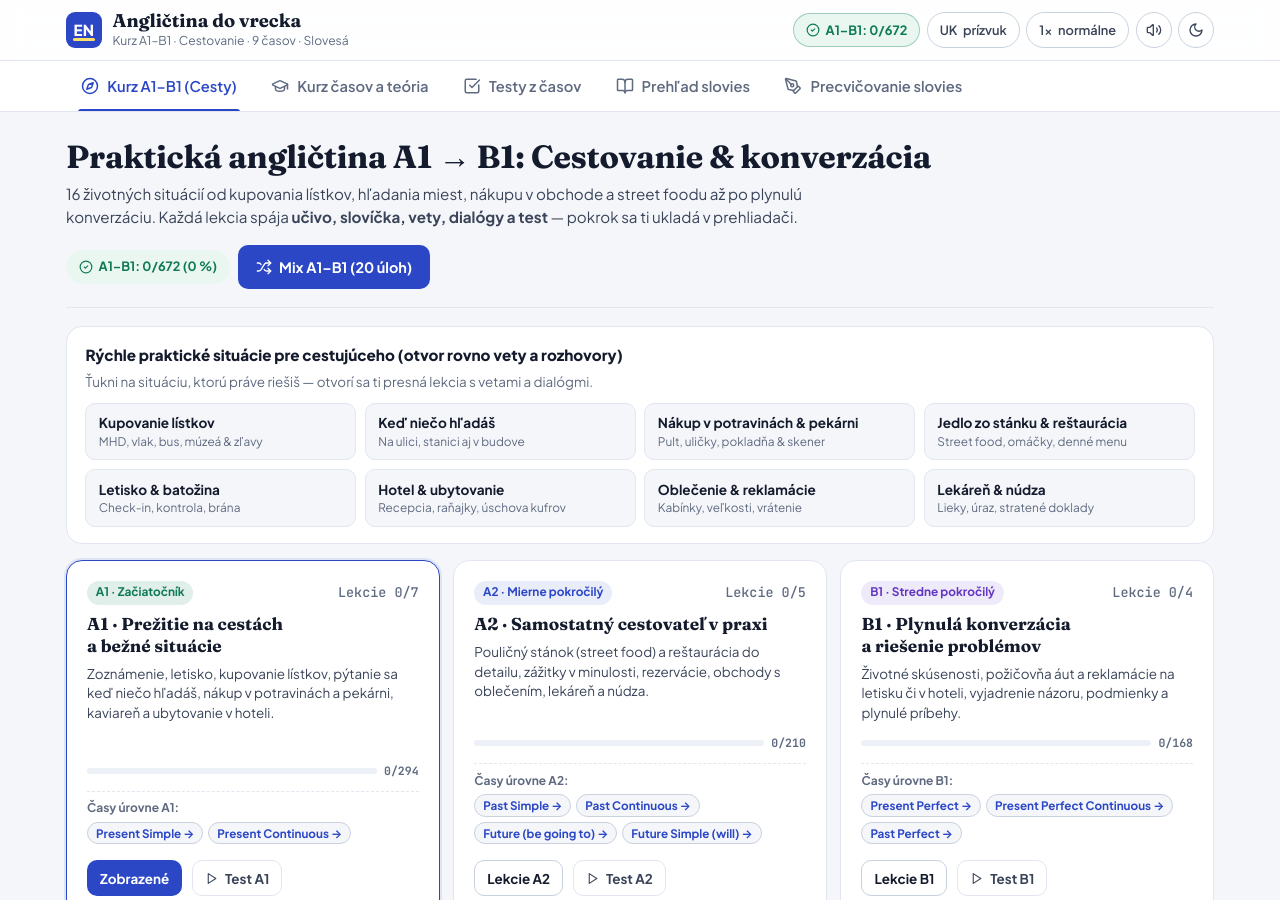
Test: App UI Integration › switches to Practice tab, supports all 5 verb forms, and shows Slovak explanation on check
Click the tab "Precvičovanie slovies": (873, 86) [769, 61, 978, 111]
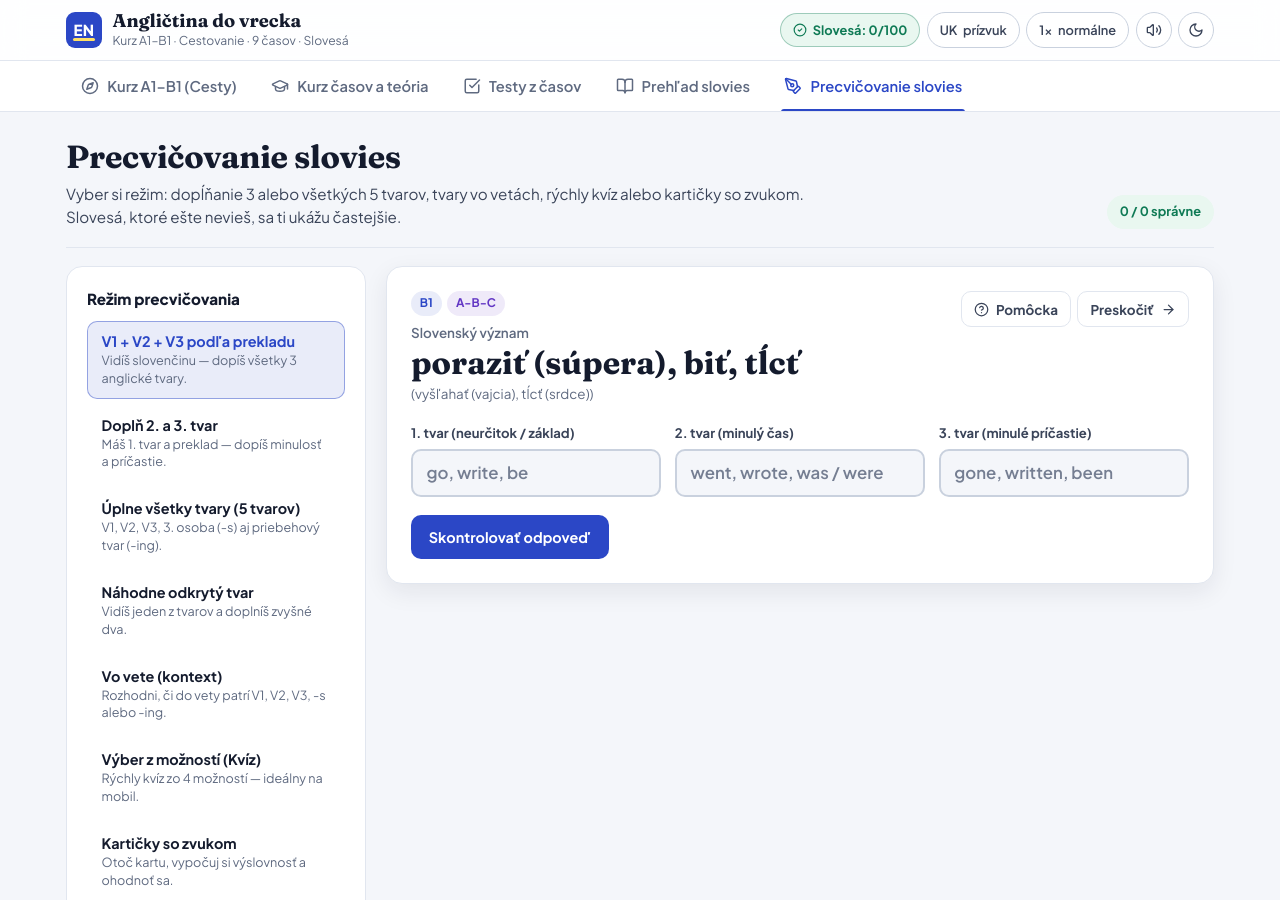
Click the button "Úplne všetky tvary (5 tvarov)": (216, 527) [87, 488, 345, 566]
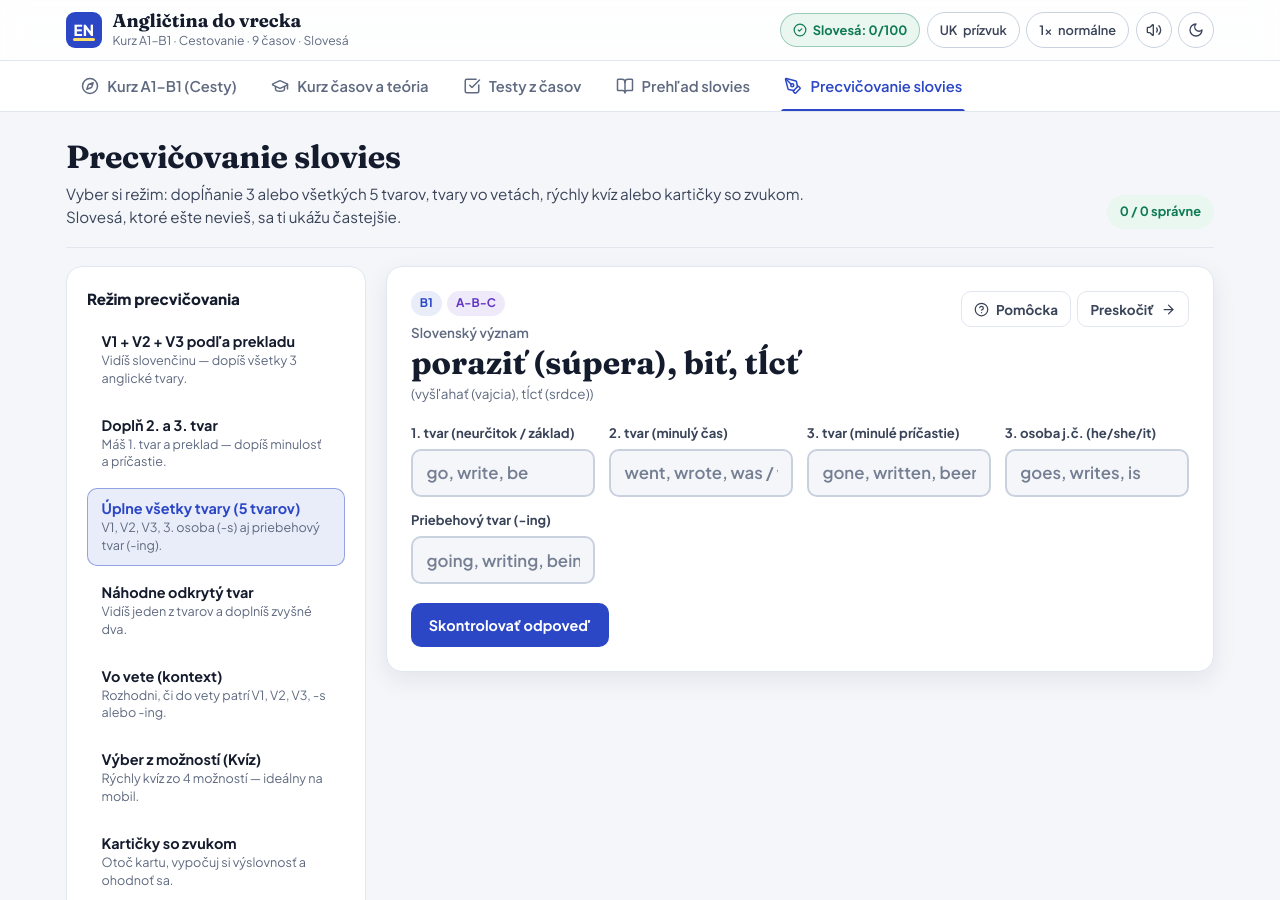
Expected: the field labelled "1. tvar (neurčitok / základ)" is shown, [411, 449, 595, 497]
Expected: the field labelled "2. tvar (minulý čas)" is shown, [609, 449, 793, 497]
Expected: the field labelled "3. tvar (minulé príčastie)" is shown, [807, 449, 991, 497]
Click the button "Skontrolovať odpoveď": (510, 625) [411, 603, 609, 647]
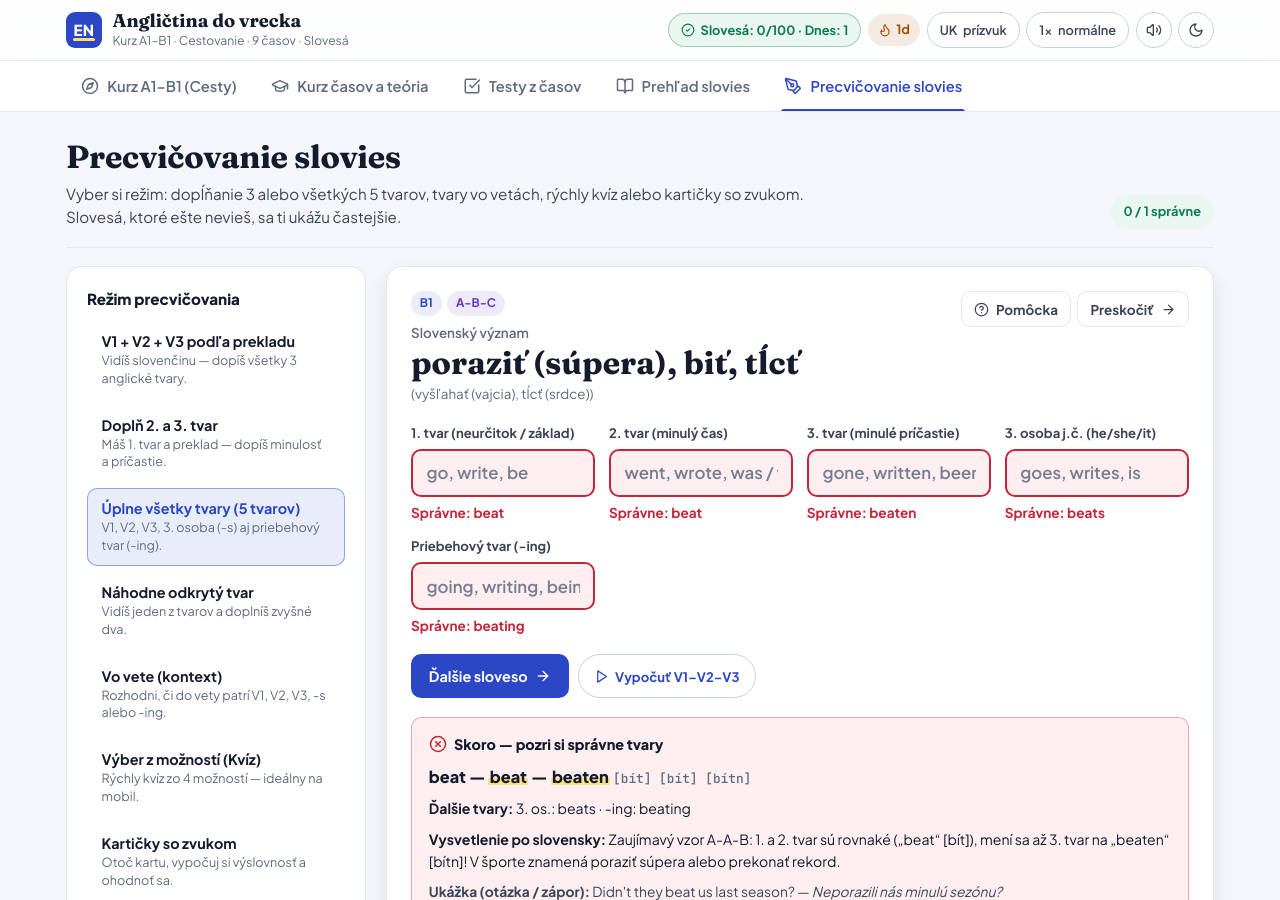
Expected: the text "Vysvetlenie po slovensky:" is shown, [429, 830, 606, 848]
